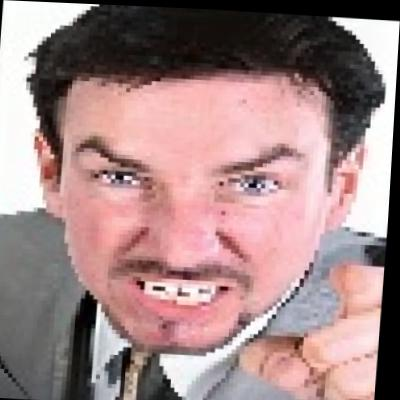angry: (51, 54, 335, 346)
